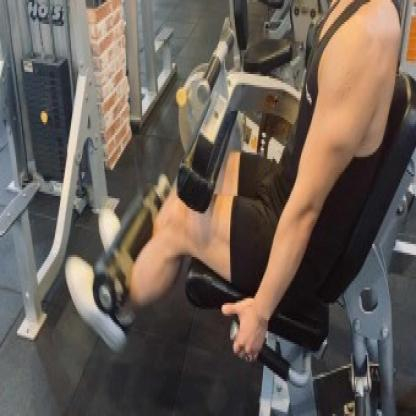leg extension: (54, 0, 414, 416)
